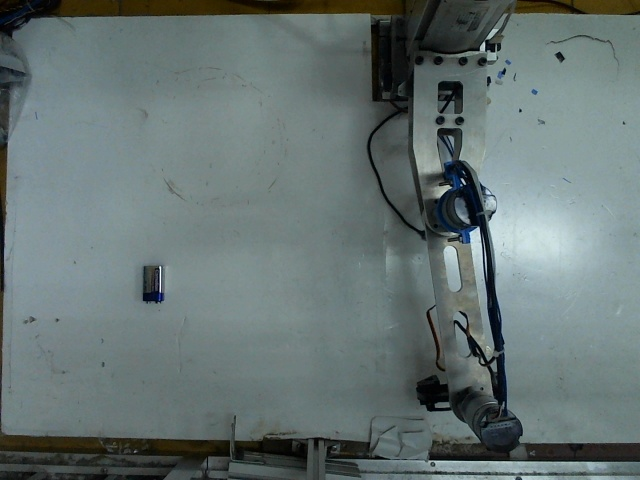battery: (137, 258, 166, 301)
